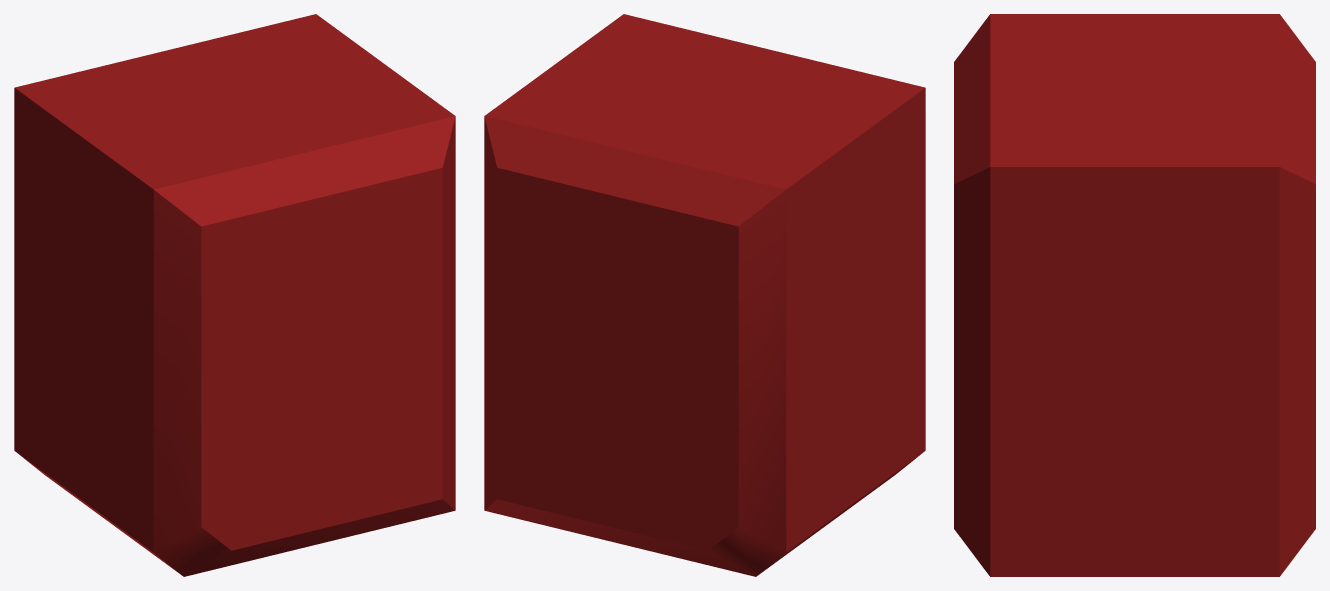
Rendered from SM_Wall_25x20.FBX.
The picture shows the model from 3 angles, left to right: view 1: azimuth 30°, elevation 25°; view 2: azimuth 150°, elevation 25°; view 3: azimuth 270°, elevation 25°; orthographic projection. The views are drawn at different scales.
Parts seen in each view (by area): view 1: Wall_25x20; view 2: Wall_25x20; view 3: Wall_25x20.
Boxes of the visible parts, x1=… form: Wall_25x20: x1=14, y1=14, x2=455, y2=576; Wall_25x20: x1=484, y1=14, x2=925, y2=576; Wall_25x20: x1=954, y1=14, x2=1315, y2=576.
Bounding box in the file's own units: 20 × 25 × 20.
